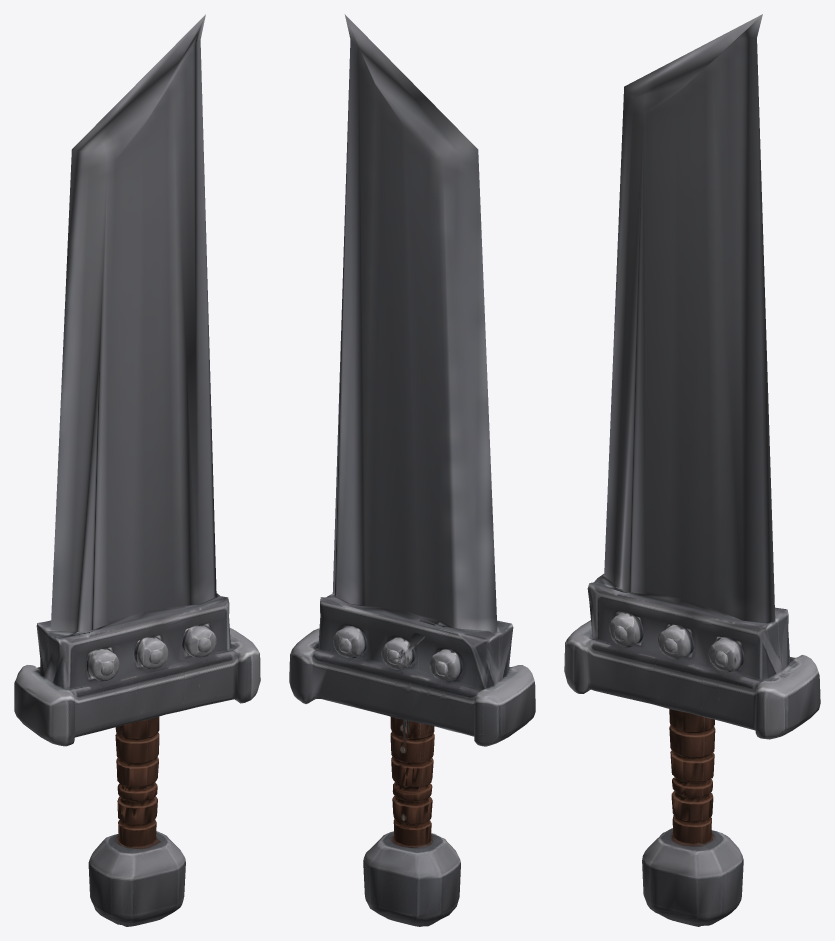
Rendered from Y2Sword07Geometry.fbx.
The picture shows the model from 3 angles, left to right: view 1: azimuth 30°, elevation 25°; view 2: azimuth 150°, elevation 25°; view 3: azimuth 330°, elevation 25°; orthographic projection. The views are drawn at different scales.
Visible parts, largest first — view 1: Mesh_0; view 2: Mesh_0; view 3: Mesh_0.
Boxes of the visible parts, x1,y1,x2,y2 form: Mesh_0: (14,14,260,926); Mesh_0: (289,14,535,926); Mesh_0: (564,14,820,926).
Bounding box in the file's own units: 52.88 × 203 × 19.03.
1 material, 1 textured.
